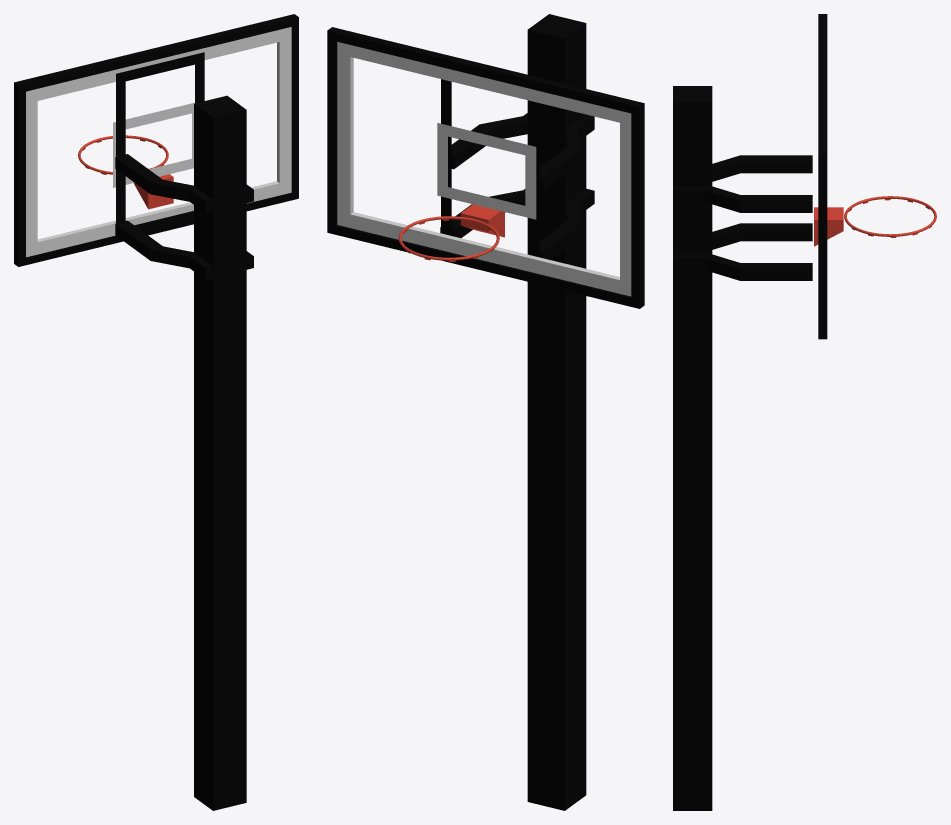
The model's file is BasketBallHoop.fbx.
3 renders of one model, left to right at view 1: azimuth 30°, elevation 25°; view 2: azimuth 150°, elevation 25°; view 3: azimuth 270°, elevation 25°, orthographic. The views are drawn at different scales.
Parts seen in each view (by area): view 1: Plane.001; view 2: Plane.001; view 3: Plane.001.
Part boxes in pixels (box(x1,y1,x2,y2)): Plane.001: box(14, 14, 298, 810); Plane.001: box(327, 14, 644, 810); Plane.001: box(673, 14, 936, 810).
Size of the model in its own units: 168 by 402 by 134.
